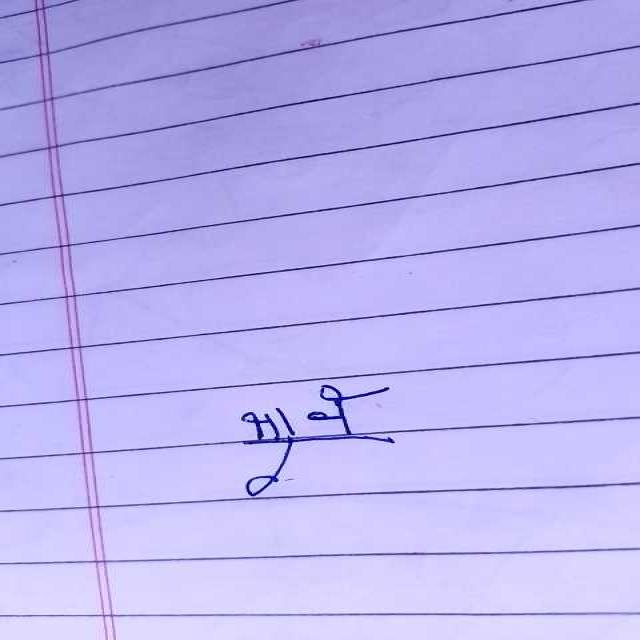signature: (208, 370, 404, 502)
